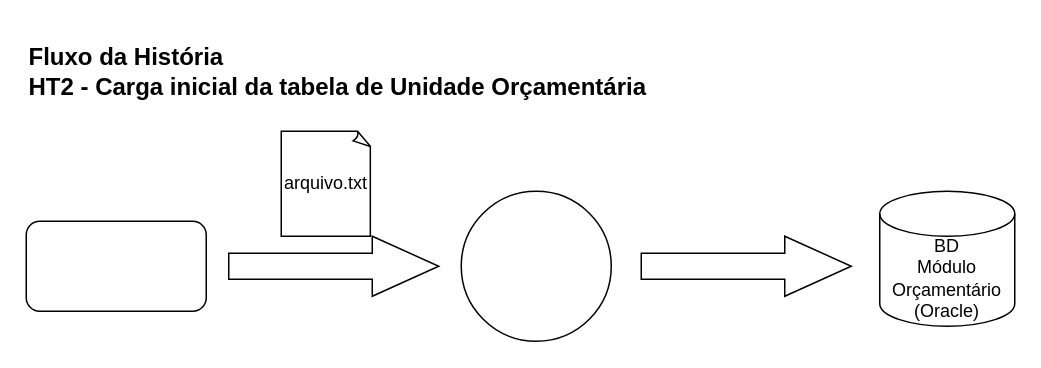
Some shapes in this 1041 by 368 pixel diagram are drawn without their labels. Here are the shapes that lost their labels. From the top down, the centre of each, then its label:
At pixel 115 265: "Storage SIAFI".
At pixel 535 265: "GFO - Módulo Orçamentário".
